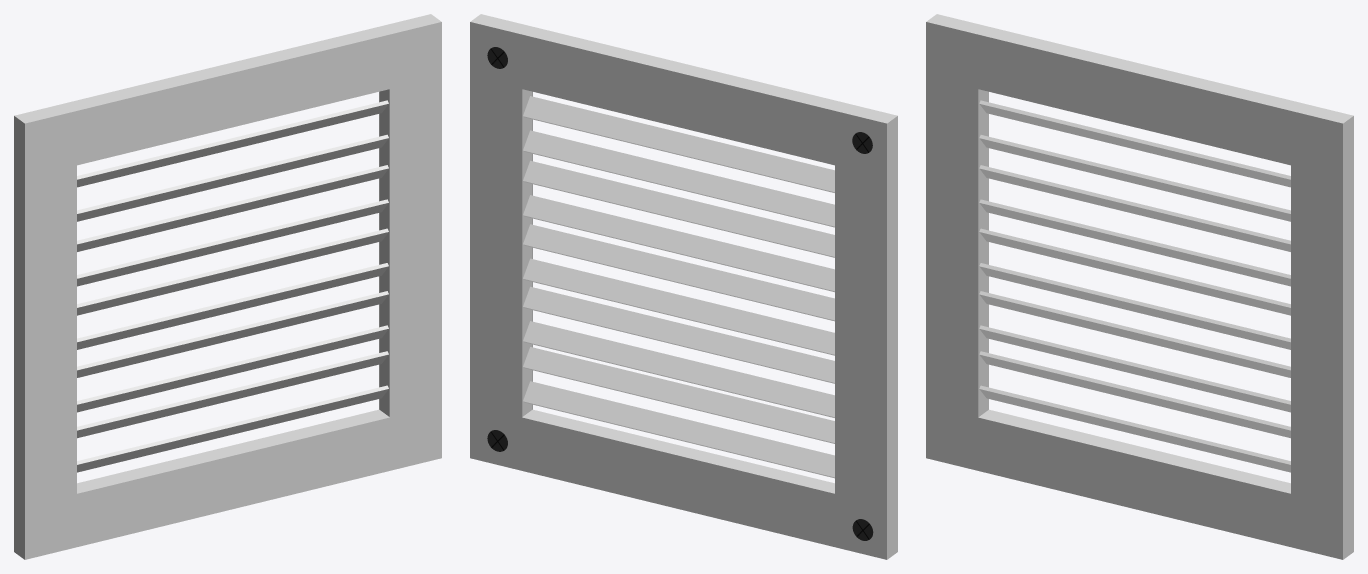
The model's file is Vent.fbx.
3 renders of one model, left to right at view 1: azimuth 30°, elevation 25°; view 2: azimuth 150°, elevation 25°; view 3: azimuth 330°, elevation 25°, orthographic.
Visible parts, largest first — view 1: Vent, Vent part.002, Vent part.006, Vent part, Vent part.009, Vent part.003, Vent part.005, Vent part.001, Vent part.004, Vent part.008, Vent part.007; view 2: Vent, Vent part.005, Vent part, Vent part.006, Vent part.009, Vent part.002, Vent part.001, Vent part.003, Vent part.004, Vent part.008, Vent part.007; view 3: Vent, Vent part.002, Vent part.006, Vent part, Vent part.009, Vent part.005, Vent part.001, Vent part.003, Vent part.004, Vent part.008, Vent part.007.
Boxes of the visible parts, x1=… form: Vent: x1=14, y1=14, x2=441, y2=559; Vent part.002: x1=77, y1=100, x2=388, y2=187; Vent part.006: x1=77, y1=325, x2=388, y2=412; Vent part: x1=77, y1=199, x2=388, y2=286; Vent part.009: x1=77, y1=351, x2=388, y2=438; Vent part.003: x1=77, y1=134, x2=388, y2=221; Vent part.005: x1=77, y1=263, x2=388, y2=349; Vent part.001: x1=77, y1=165, x2=388, y2=251; Vent part.004: x1=77, y1=228, x2=388, y2=315; Vent part.008: x1=77, y1=385, x2=388, y2=472; Vent part.007: x1=77, y1=291, x2=388, y2=377; Vent: x1=470, y1=14, x2=897, y2=559; Vent part.005: x1=523, y1=258, x2=834, y2=355; Vent part: x1=523, y1=195, x2=834, y2=292; Vent part.006: x1=523, y1=321, x2=834, y2=417; Vent part.009: x1=523, y1=347, x2=834, y2=443; Vent part.002: x1=523, y1=96, x2=834, y2=192; Vent part.001: x1=523, y1=160, x2=834, y2=257; Vent part.003: x1=523, y1=130, x2=834, y2=227; Vent part.004: x1=523, y1=224, x2=834, y2=321; Vent part.008: x1=523, y1=381, x2=834, y2=478; Vent part.007: x1=523, y1=286, x2=834, y2=383; Vent: x1=926, y1=14, x2=1353, y2=559; Vent part.002: x1=979, y1=100, x2=1290, y2=187; Vent part.006: x1=979, y1=325, x2=1290, y2=412; Vent part: x1=979, y1=199, x2=1290, y2=286; Vent part.009: x1=979, y1=351, x2=1290, y2=438; Vent part.005: x1=979, y1=263, x2=1290, y2=349; Vent part.001: x1=979, y1=165, x2=1290, y2=251; Vent part.003: x1=979, y1=135, x2=1290, y2=221; Vent part.004: x1=979, y1=228, x2=1290, y2=315; Vent part.008: x1=979, y1=385, x2=1290, y2=472; Vent part.007: x1=979, y1=291, x2=1290, y2=377.
Bounding box in the file's own units: 200 × 200 × 9.63.
Materials: 5 (4 with a texture image).
